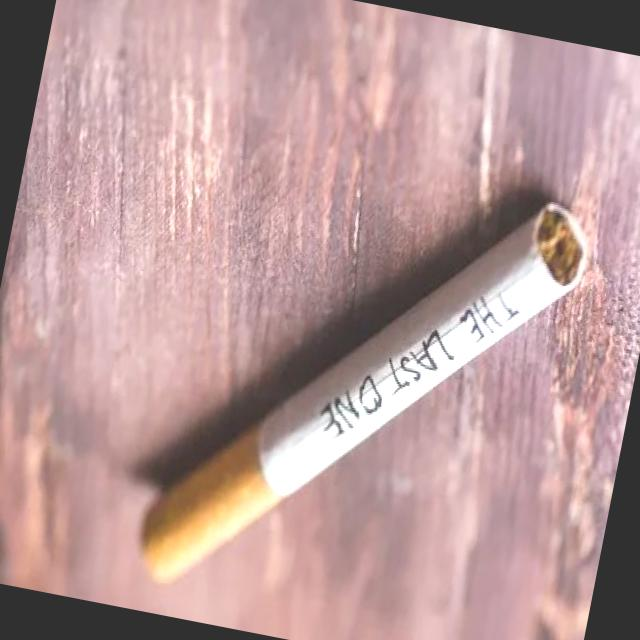smoke: (130, 127, 601, 640)
